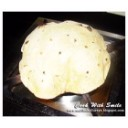poori: (19, 19, 110, 92)
